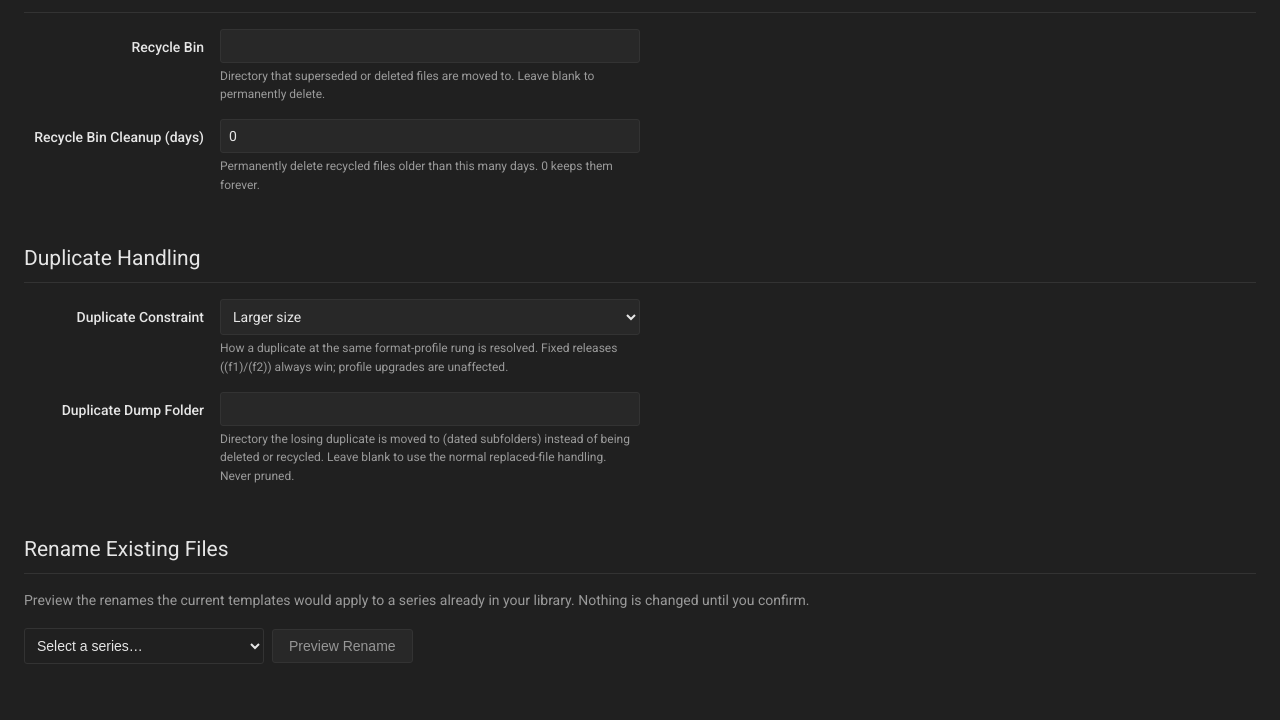
FRG-UI-012: per-series rename preview › FRG-UI-012 — a series already matching the template shows nothing to rename
(page scrolled)
Select "Invincible" in the dropdown named "Series to preview renames for" at (144, 646), box [24,628,264,664]
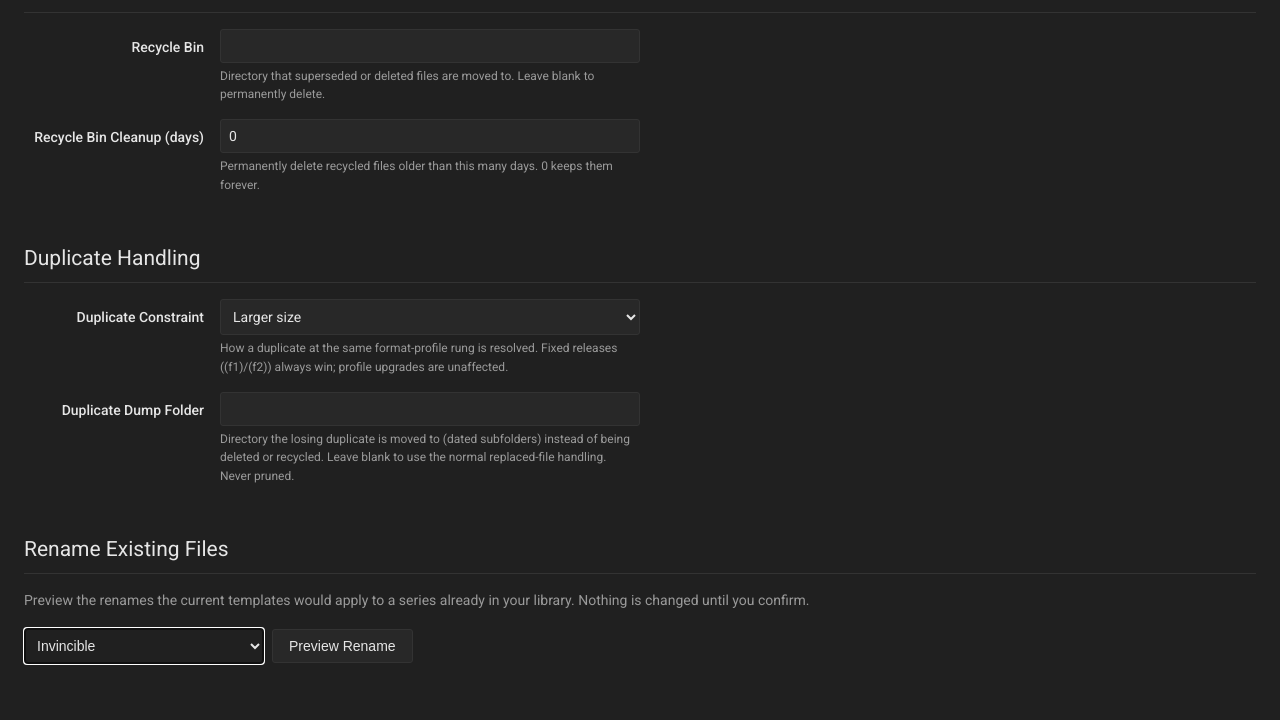
Click the button "Preview Rename" at (342, 646), box [272,629,413,663]
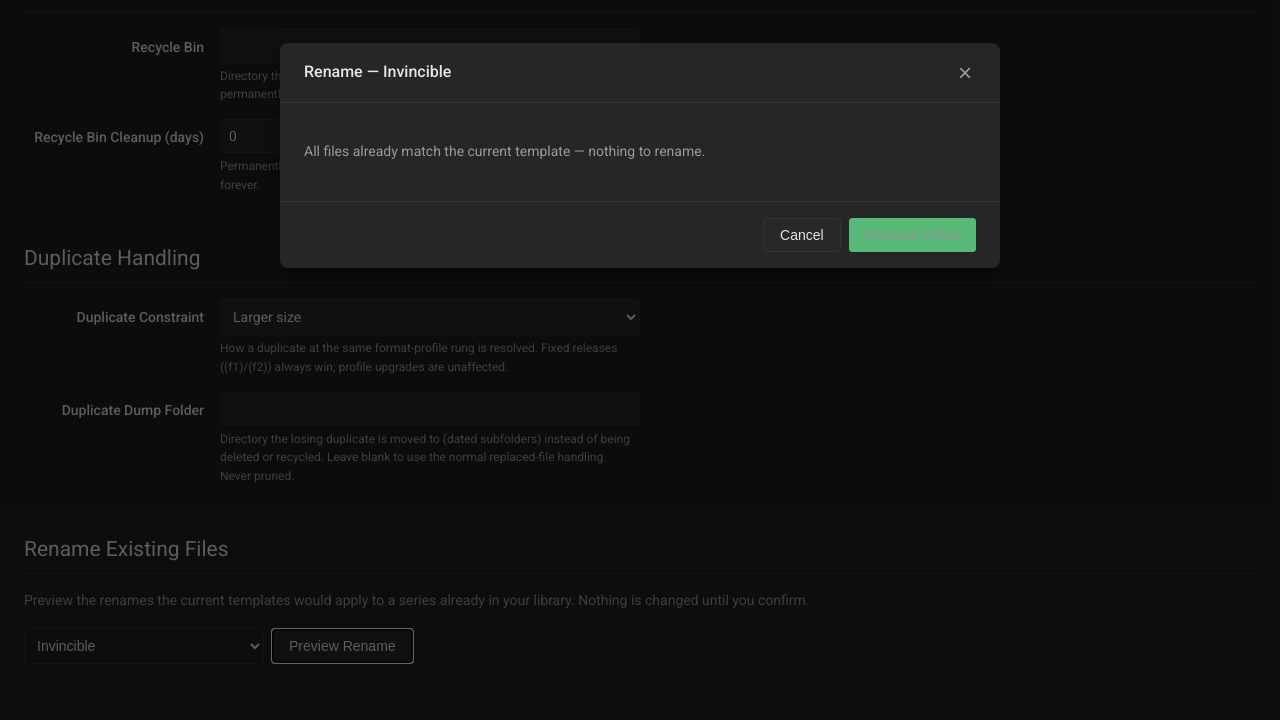
Expected: the text with test id "rename-no-changes" is shown, [304,143,705,159]
Expected: the button with test id "rename-confirm" is disabled, [849,218,976,252]
